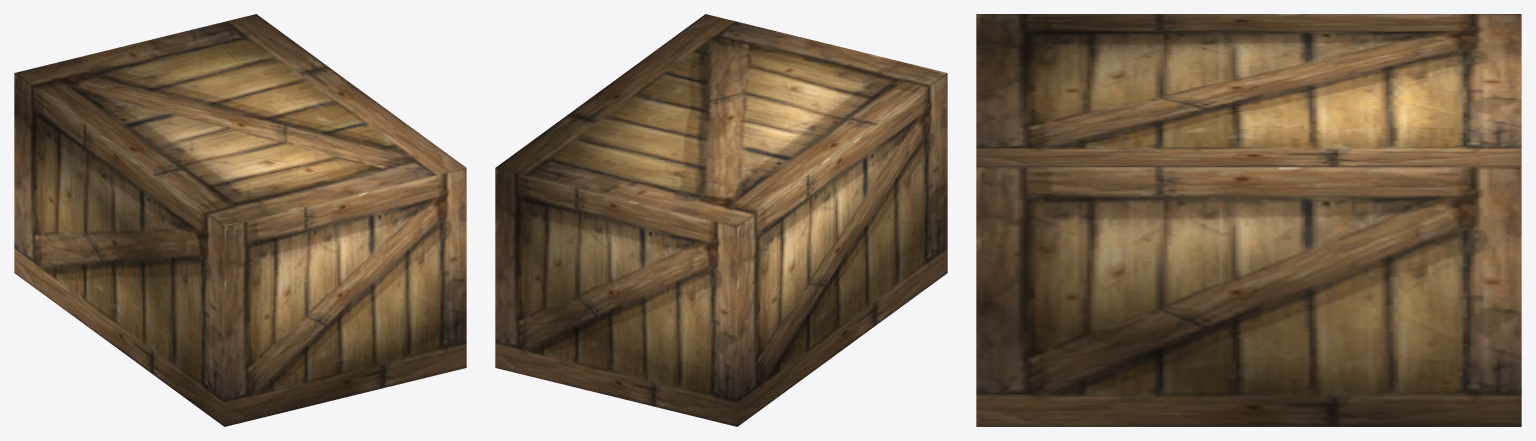
File: replacecrate03.obj
3 renders of one model, left to right at view 1: azimuth 30°, elevation 25°; view 2: azimuth 150°, elevation 25°; view 3: azimuth 270°, elevation 25°, orthographic. The views are drawn at different scales.
Parts seen in each view (by area): view 1: replacecrate03; view 2: replacecrate03; view 3: replacecrate03.
Part boxes in pixels (left/top/right/bottom): replacecrate03: left=14, top=14, right=466, bottom=426; replacecrate03: left=495, top=14, right=947, bottom=426; replacecrate03: left=976, top=14, right=1521, bottom=426.
Bounding box in the file's own units: 0.787 × 0.6217 × 1.18.
Materials: 1 (1 with a texture image).
